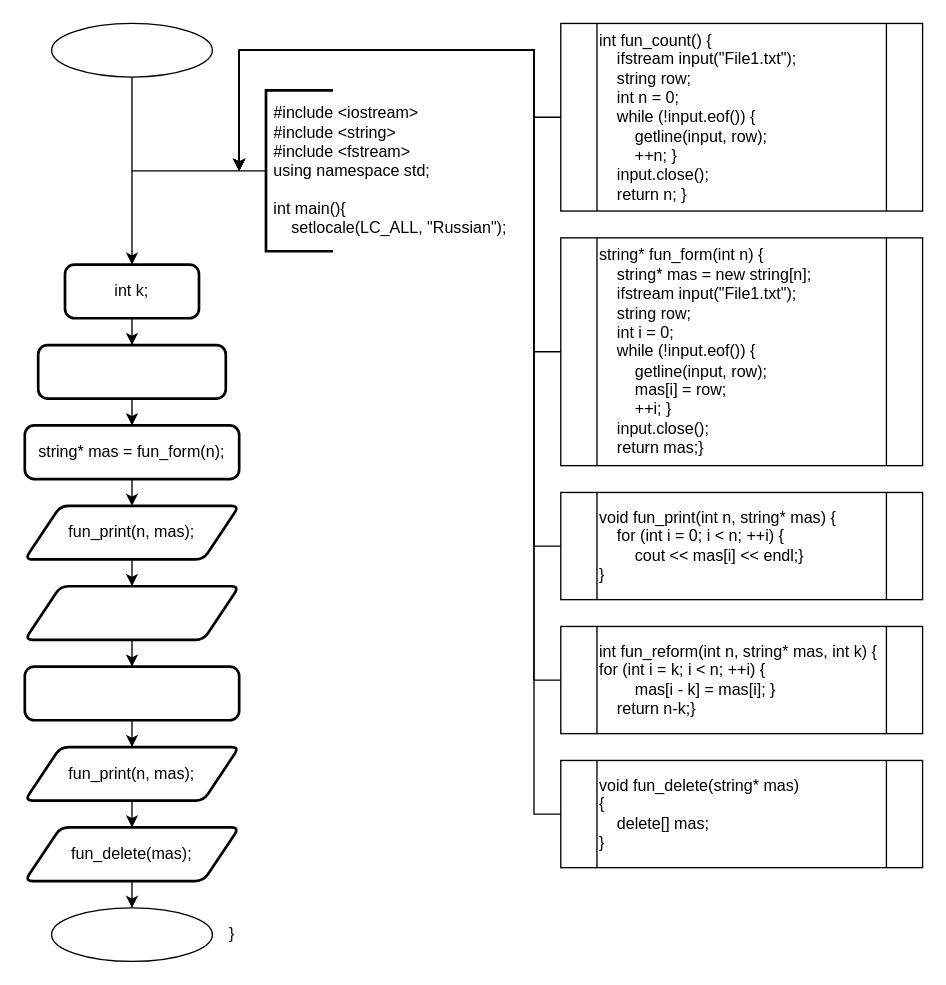
Image size: 946x985. Some labels were removed from this diagram. Each missing label, with the centre of its shape:
cin >> k;: the point at 131,612
int n = fun_count();: the point at 131,371
n = fun_reform(n, mas, k);: the point at 131,693
return 0;: the point at 131,934
start: the point at 131,49
